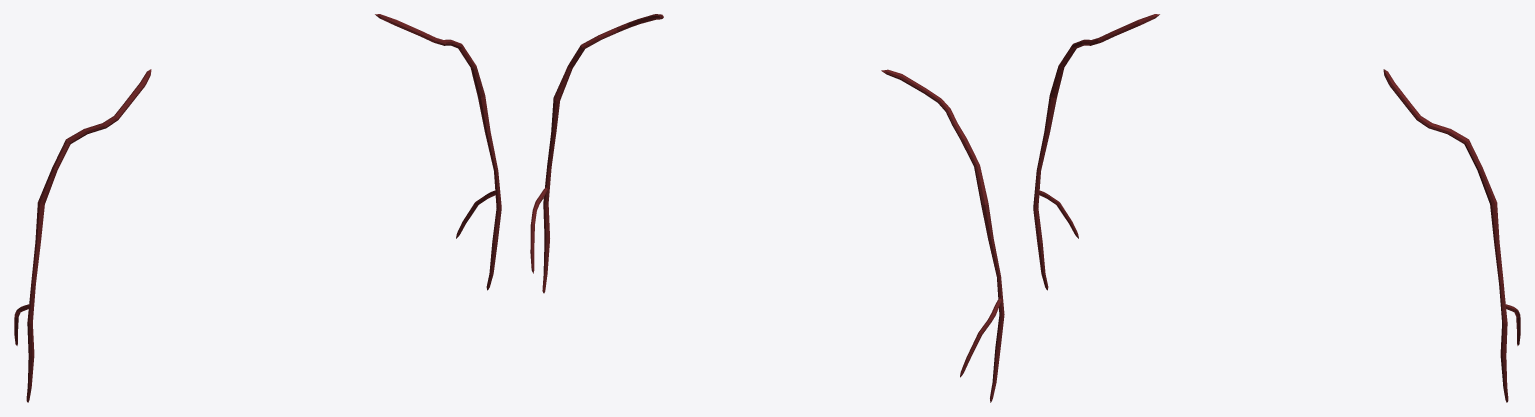
Rendered from Artéria Circunfleja Femoral.FBX.
3 renders of one model, left to right at view 1: azimuth 30°, elevation 25°; view 2: azimuth 150°, elevation 25°; view 3: azimuth 330°, elevation 25°, orthographic. The views are drawn at different scales.
Visible parts, largest first — view 1: CS_Arterie; view 2: CS_Arterie; view 3: CS_Arterie.
Boxes of the visible parts, bbox=[...] form: CS_Arterie: bbox=[14, 14, 501, 402]; CS_Arterie: bbox=[530, 14, 1004, 402]; CS_Arterie: bbox=[1033, 14, 1520, 402].
Size of the model in its own units: 1197 by 747 by 177.
